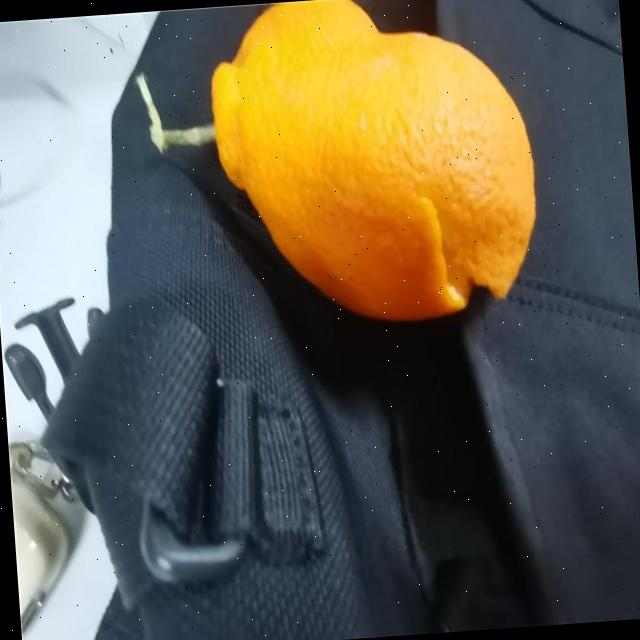orange-peel: (202, 0, 546, 335)
